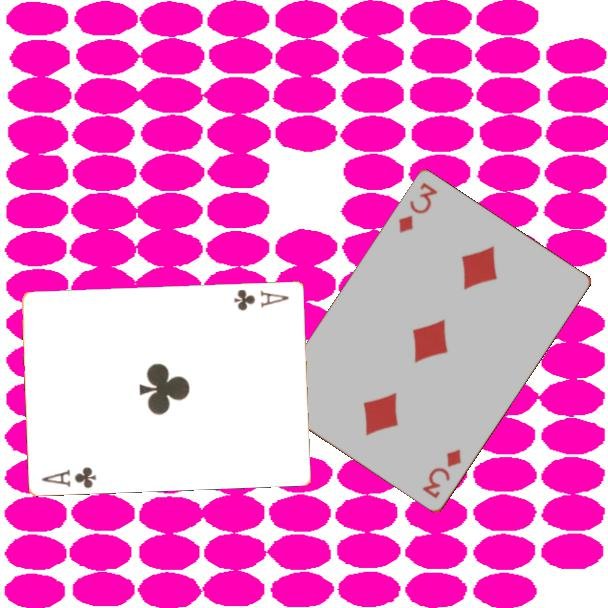c01: (231, 286, 292, 313), (39, 463, 99, 490)
d03: (395, 179, 441, 236), (419, 446, 465, 502)
